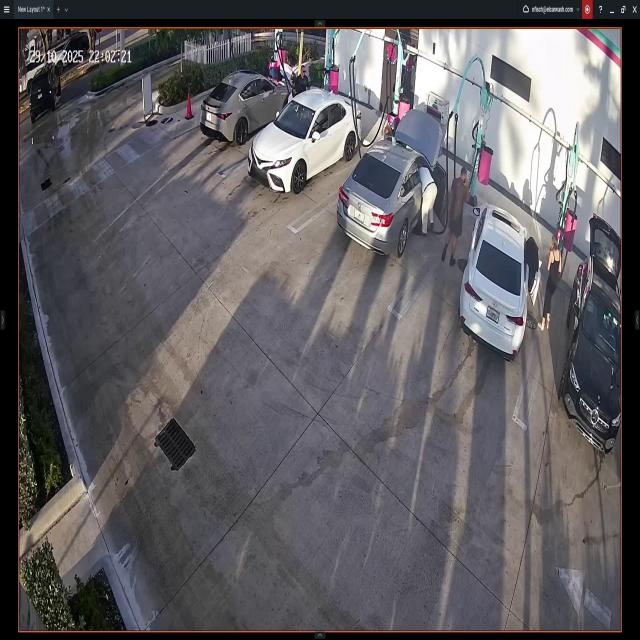Car: (338, 104, 436, 254), (565, 218, 621, 450), (248, 86, 363, 194), (461, 207, 534, 363), (201, 71, 293, 146), (30, 63, 61, 123)
